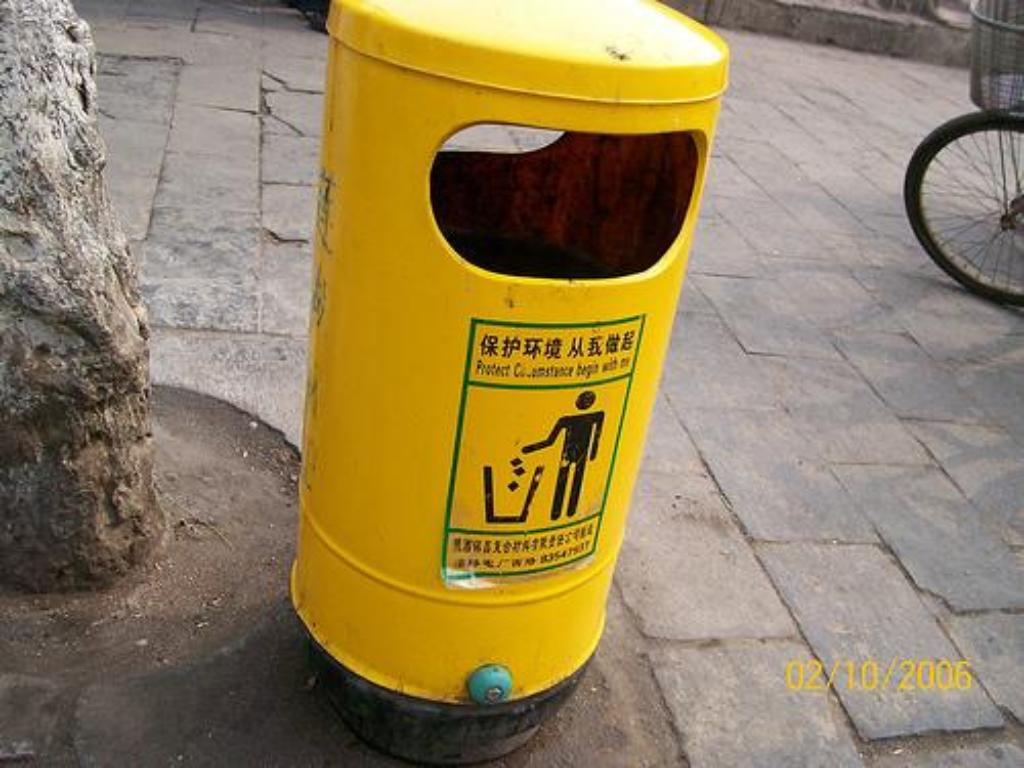dustbin: (272, 0, 742, 730)
